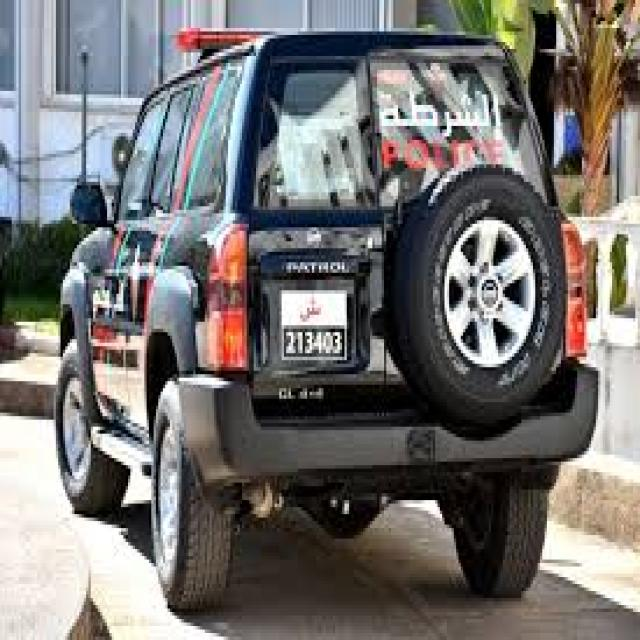police: (59, 21, 596, 608)
